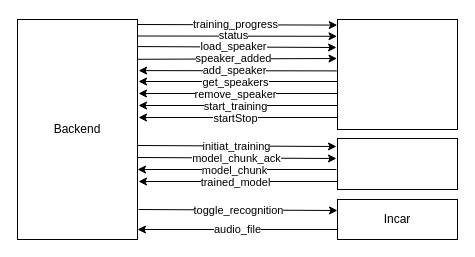
The diagram is 475 pixels wide and 257 high, and some of its shapes have lost their labels. Each missing label, with the centre of its shape:
Frontend: pixel 397 74
GPU-Backend: pixel 397 164
